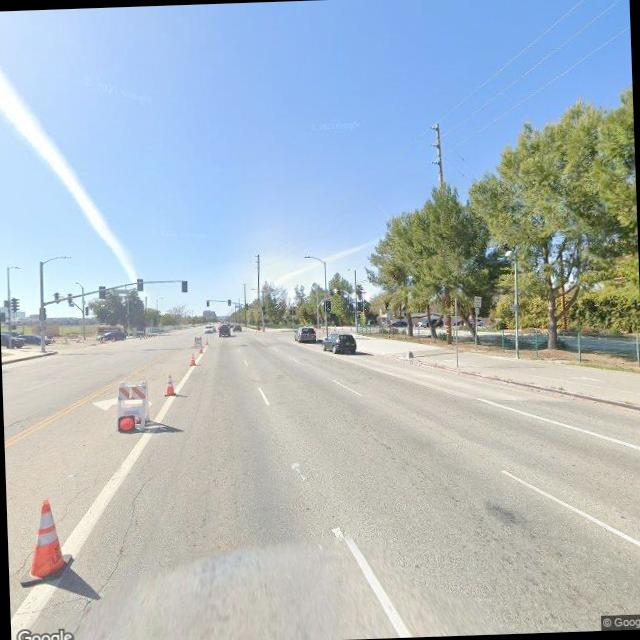pothole: (80, 458, 160, 622), (44, 484, 86, 538), (8, 542, 36, 578)
